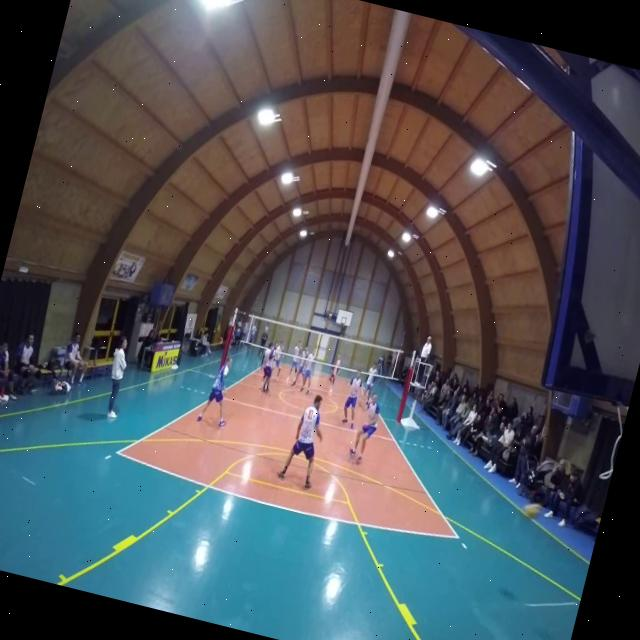Volleyball: (523, 498, 543, 524)
